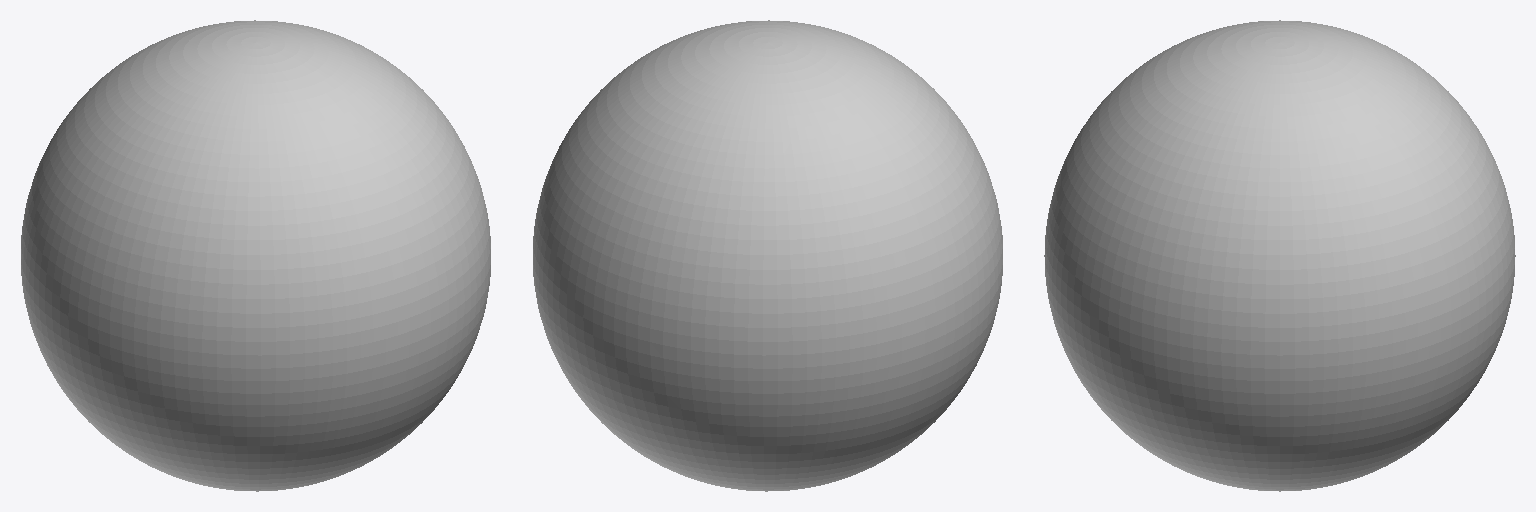
Rendered from ball.obj.
3 views of the same model, side by side, from view 1: azimuth 30°, elevation 25°; view 2: azimuth 150°, elevation 25°; view 3: azimuth 270°, elevation 25° (orthographic).
Visible parts, largest first — view 1: Sphere; view 2: Sphere; view 3: Sphere.
Part boxes in pixels (x1,y1,x2,y2): Sphere: (21, 20, 490, 491); Sphere: (533, 20, 1002, 491); Sphere: (1044, 20, 1515, 491).
Size of the model in its own units: 0.804 by 0.804 by 0.804.